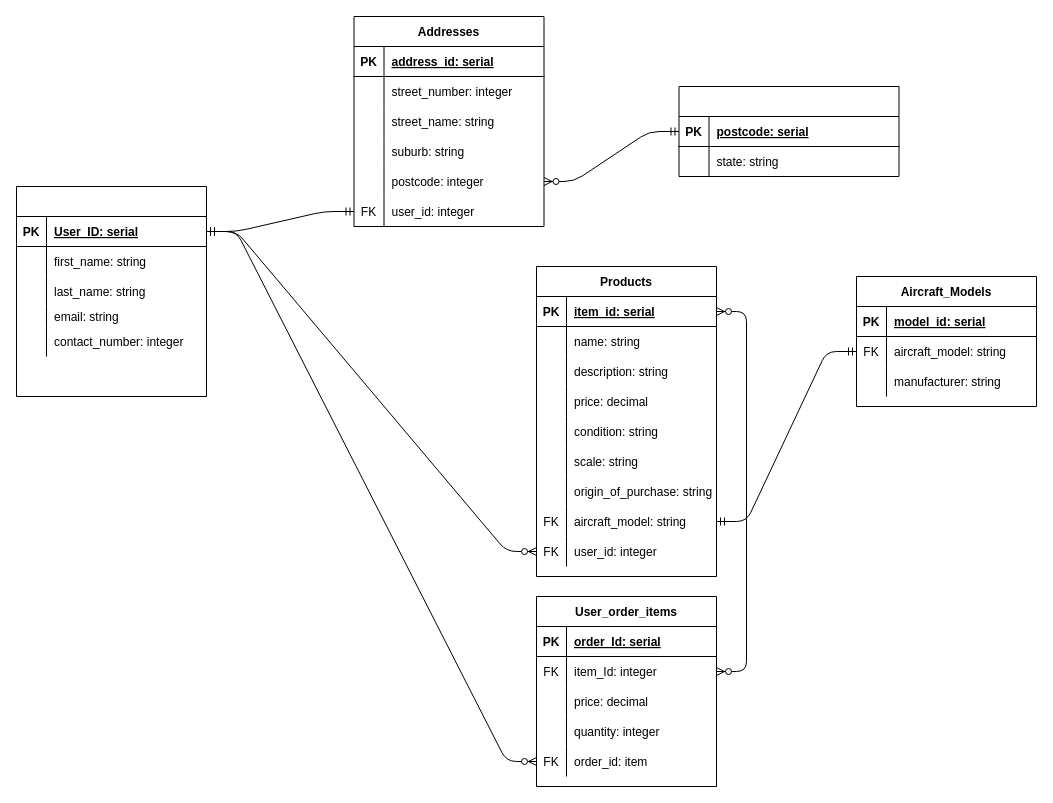
Image size: 1053x803. Some labels were removed from this diagram. Here are the shapes that lost their labels. From the top down, the box of each, then its label:
(678, 86, 899, 176): States_Postcodes
(16, 186, 206, 396): Users
